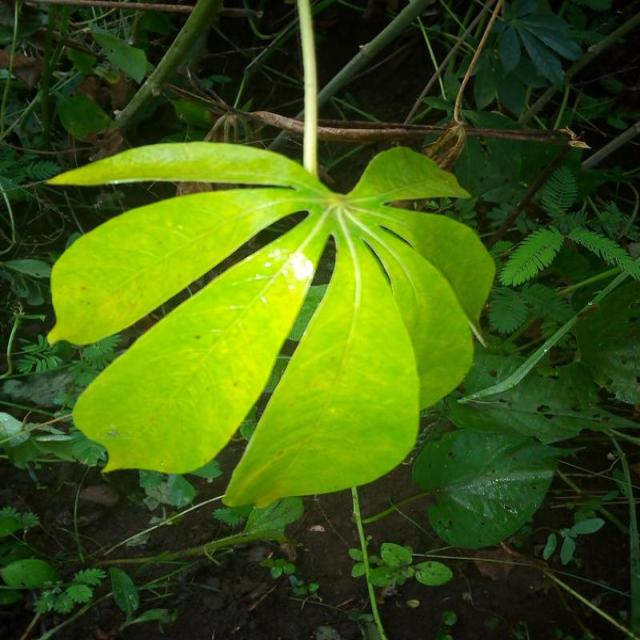cassava leaf: (46, 137, 496, 508)
